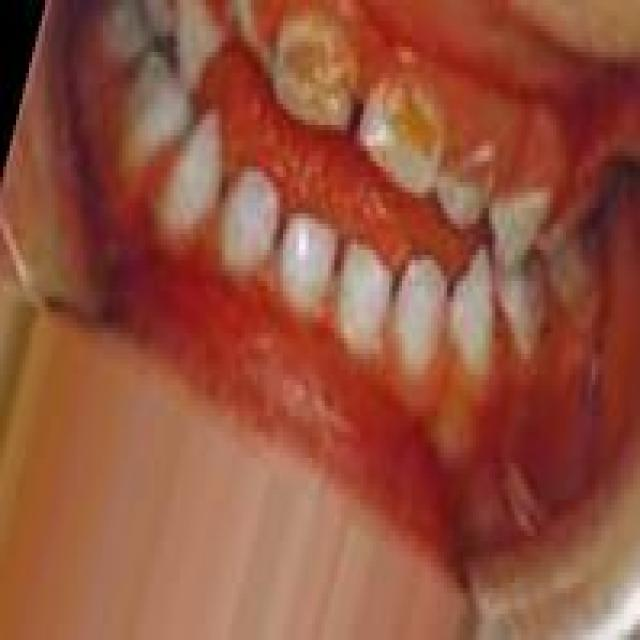caries: (354, 74, 446, 199), (272, 6, 358, 137), (435, 138, 502, 239)
